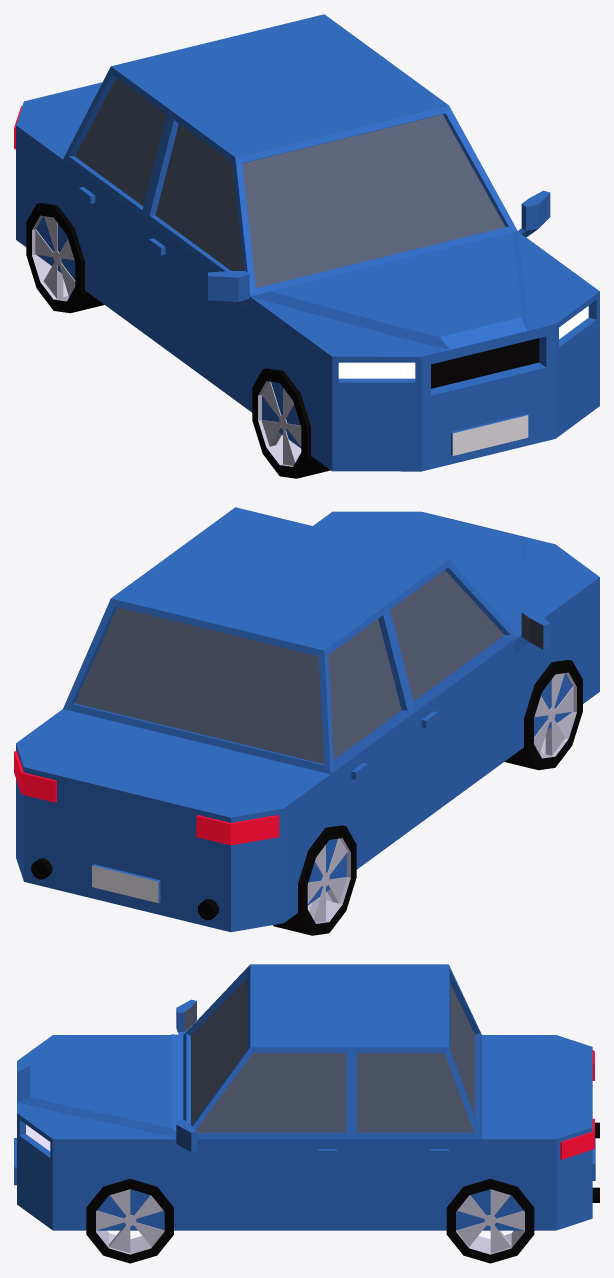
File: car.glb
3 renders of one model, top to bottom at view 1: azimuth 30°, elevation 25°; view 2: azimuth 150°, elevation 25°; view 3: azimuth 270°, elevation 25°, orthographic. The views are drawn at different scales.
Parts seen in each view (by area): view 1: Sedan, Sedan wheel rear right, Sedan wheel front right; view 2: Sedan, Sedan wheel front right, Sedan wheel rear right; view 3: Sedan, Sedan wheel rear left, Sedan wheel front left.
Part boxes in pixels (left/top/right/bottom): Sedan: left=14, top=14, right=599, bottom=471; Sedan wheel rear right: left=26, top=203, right=104, bottom=313; Sedan wheel front right: left=252, top=368, right=330, bottom=478; Sedan: left=14, top=507, right=599, bottom=932; Sedan wheel front right: left=504, top=660, right=582, bottom=770; Sedan wheel rear right: left=273, top=825, right=356, bottom=935; Sedan: left=14, top=964, right=599, bottom=1230; Sedan wheel rear left: left=446, top=1178, right=534, bottom=1263; Sedan wheel front left: left=86, top=1178, right=173, bottom=1263.
Bounding box in the file's own units: 2.81 × 2.01 × 5.23.
